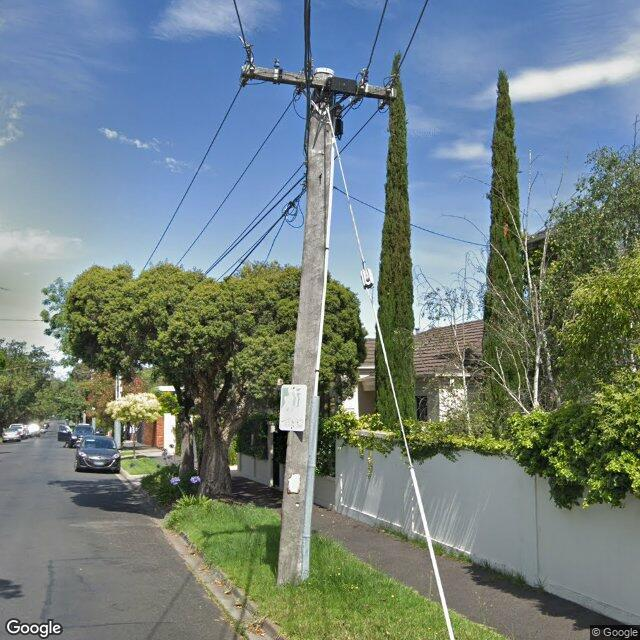crossarm: (242, 64, 396, 102)
timber-pole: (277, 68, 336, 585)
